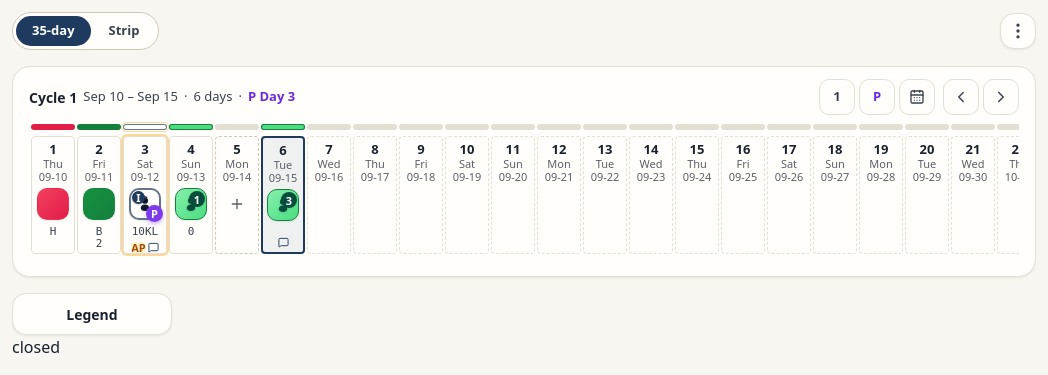
Test: ChartRow interactions › opens a gap day, a native button, with a click
This screenshot has width=1048, height=375.
Press Tab in the button with aria-label "Day 5 (2026-09-14) - Empty", box [215,136,259,254]
Expected: the text with test id "drawer" reads "closed", [12,336,60,358]
Click the button with aria-label "Day 5 (2026-09-14) - Empty" at (237, 195), box [215,136,259,254]
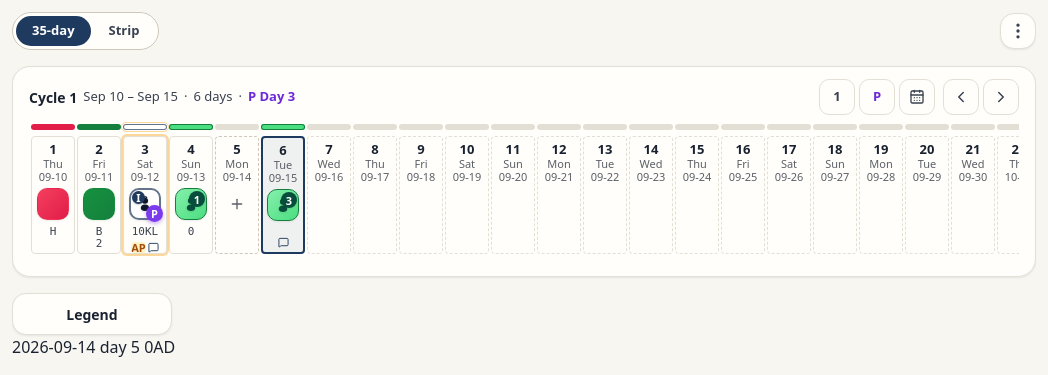
Result: the text with test id "drawer" reads "2026-09-14 day 5 0AD" at [12,336,175,358]
